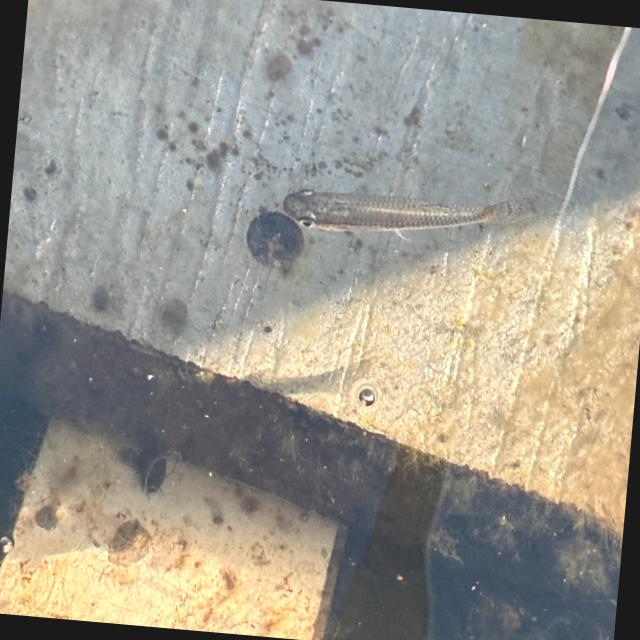Sivrisinek Baligi: (270, 169, 540, 252)
